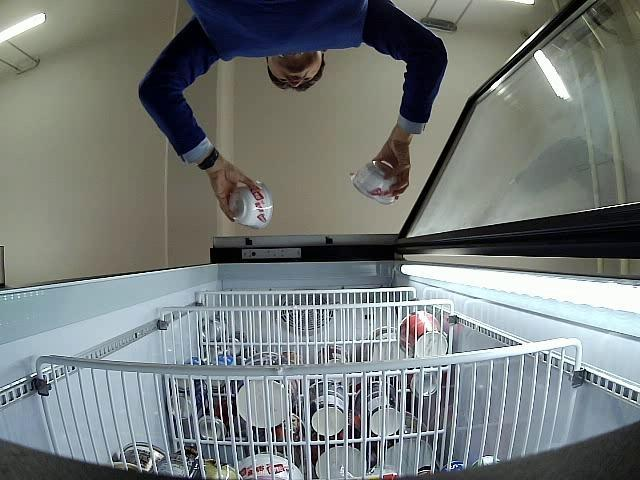09_yukGaeJang: (349, 160, 398, 204), (228, 182, 272, 229)
